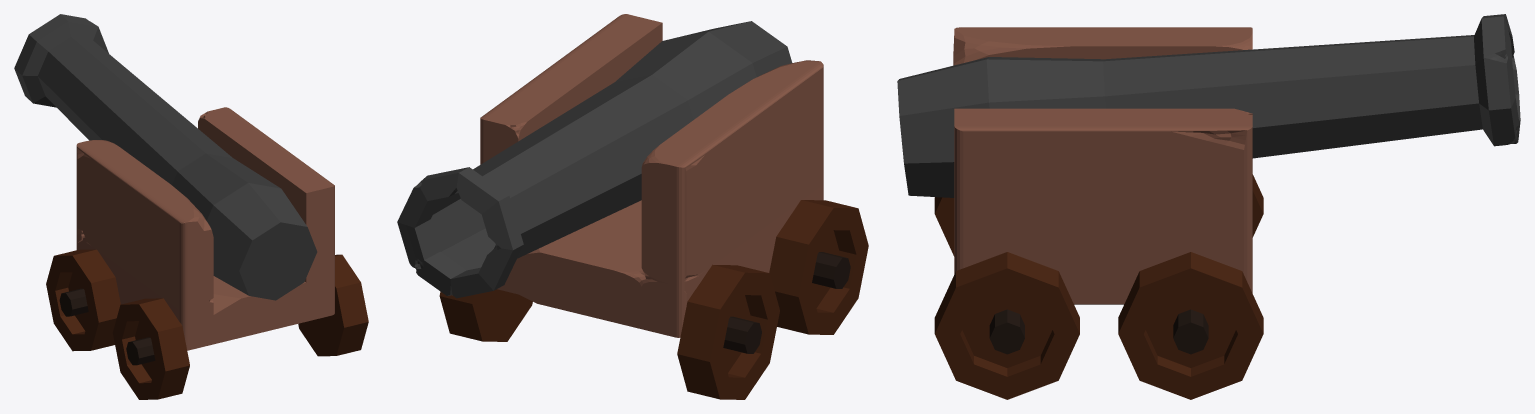
Rendered from Cannon.glb.
The picture shows the model from 3 angles, left to right: view 1: azimuth 30°, elevation 25°; view 2: azimuth 150°, elevation 25°; view 3: azimuth 270°, elevation 25°; orthographic projection. The views are drawn at different scales.
Visible parts, largest first — view 1: Cube, Cylinder.001, Cylinder.002; view 2: Cube, Cylinder.001, Cylinder.002; view 3: Cube, Cylinder.001, Cylinder.002.
Part boxes in pixels (box(x1,y1,x2,y2)): Cube: box(76, 107, 334, 350); Cylinder.001: box(14, 14, 317, 300); Cylinder.002: box(46, 249, 368, 399); Cube: box(480, 14, 823, 337); Cylinder.001: box(397, 21, 792, 298); Cylinder.002: box(439, 200, 868, 399); Cube: box(953, 27, 1252, 304); Cylinder.001: box(897, 14, 1520, 197); Cylinder.002: box(934, 174, 1263, 399).
Bounding box in the file's own units: 5.53 × 5.6 × 10.03.
